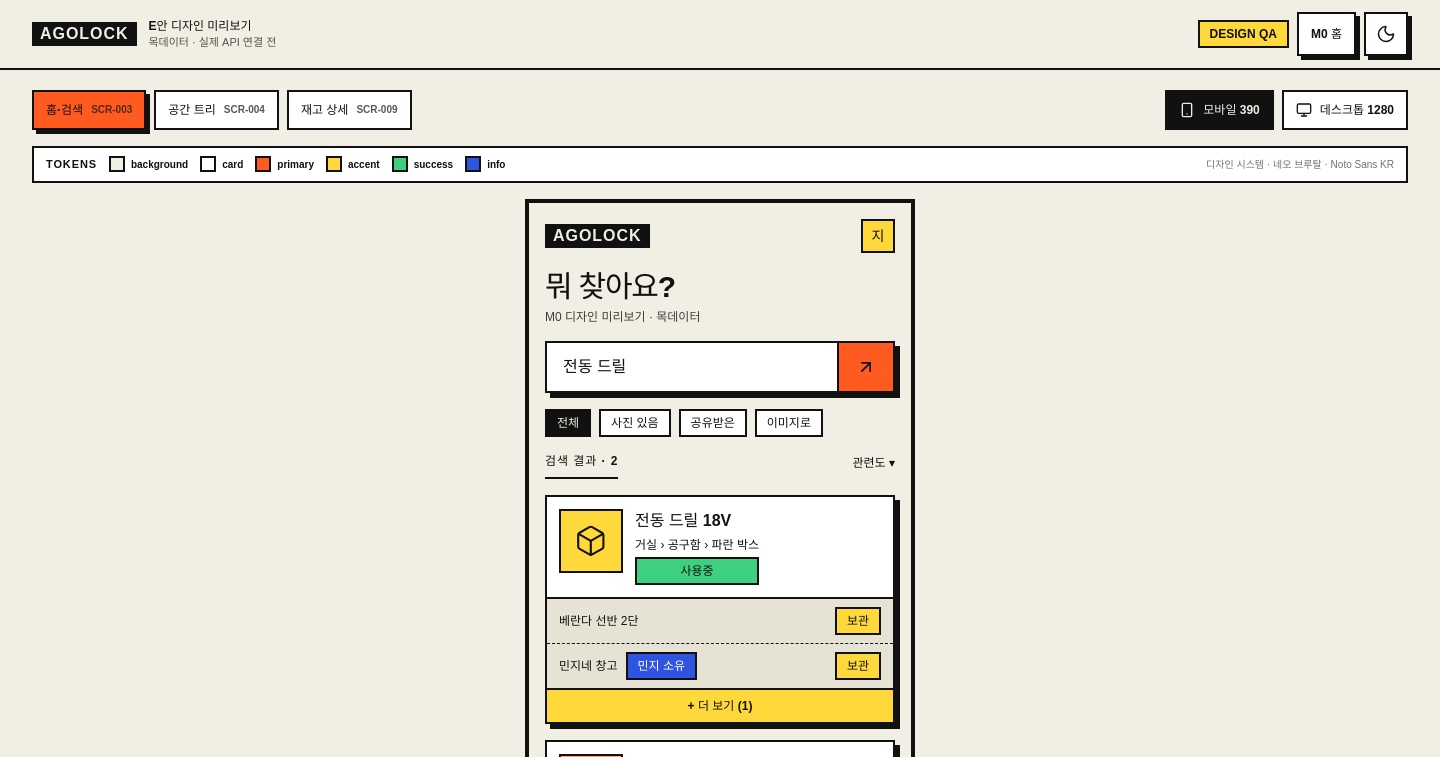
Test: 앱 라우팅 › 디자인 미리보기에서 3개 시안을 전환한다
The image size is (1440, 757).
Expected: the text "E안 디자인 미리보기" is shown, [148,19,252,33]
Expected: the heading "전동 드릴 18V" is shown, [635,512,731,528]
Click the button "공간 트리 SCR-004": (217, 110) [154,90,279,130]
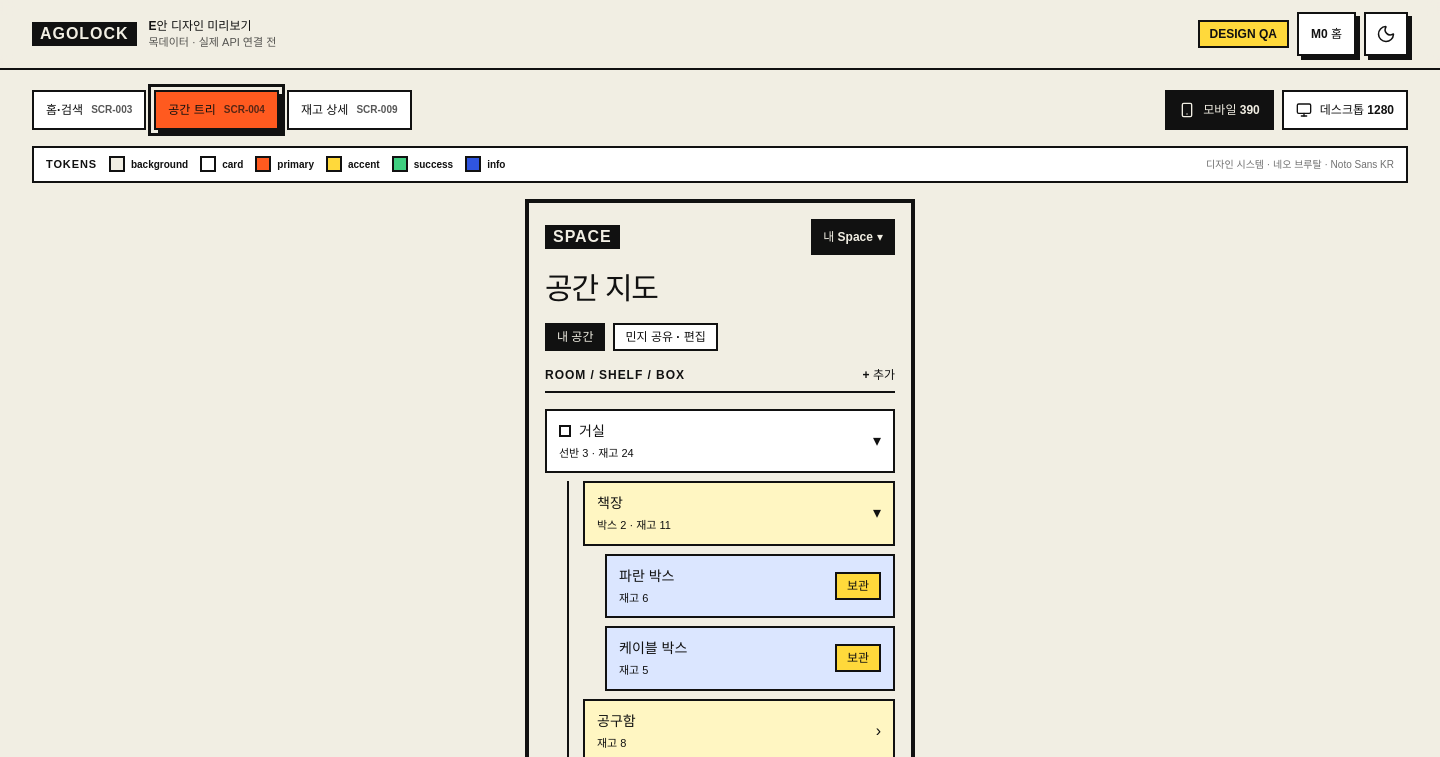
Expected: the heading "공간 지도" is shown, [545,272,658,304]
Click the button "재고 상세 SCR-009": (349, 110) [287,90,412,130]
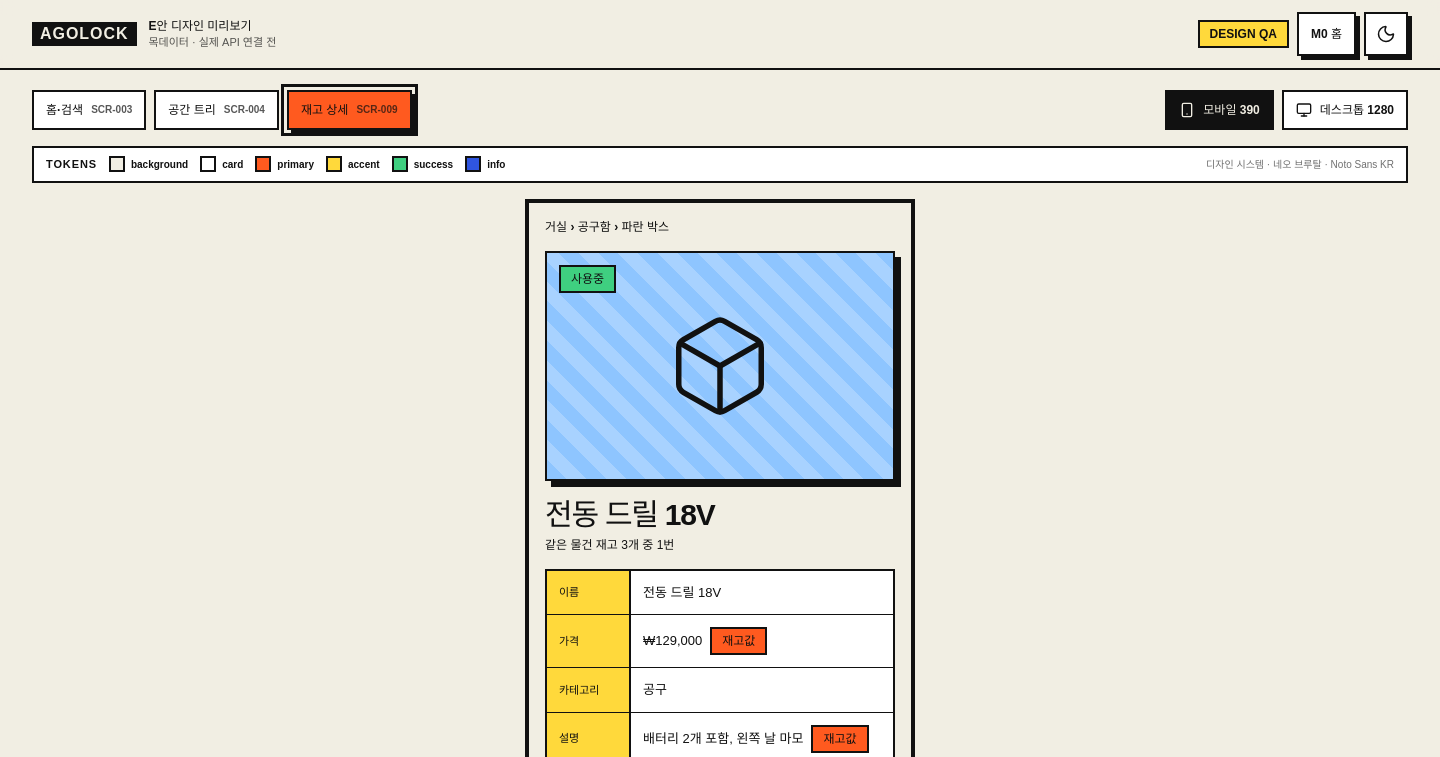
Expected: the text "같은 물건 재고 3개 중 1번" is shown, [545,538,674,552]
